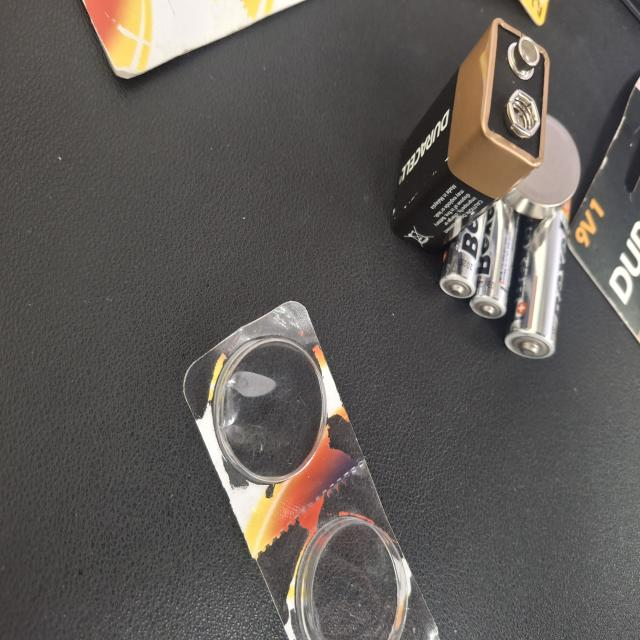9V: (15, 122, 186, 330)
AA: (148, 92, 269, 180)
AAA: (150, 163, 239, 227), (160, 205, 223, 268)
COIN: (85, 80, 164, 180)
